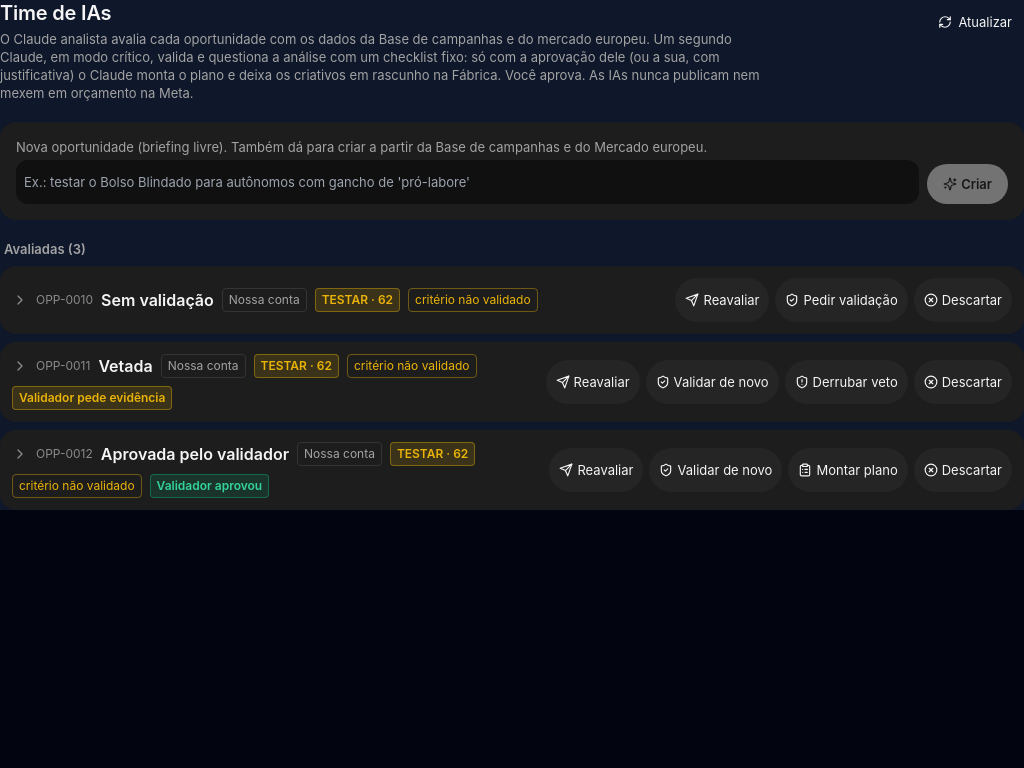
NORQVA-0021 — validador no Time de IAs › shows the checklist, questions and requested evidence
The image size is (1024, 768).
expect the number of elements with test id "ai-opportunity" is 3: met, box [0,266,1023,334]; [0,342,1023,422]; [0,430,1023,510]
expect the element with test id "ai-opportunity" shows "Validador pede evidência": met, box [12,354,538,410]
What coordinates should you click on to do the following:
click the text "Vetada"
I would click on:
 (126, 366)
Its box is [98,354,153,378].
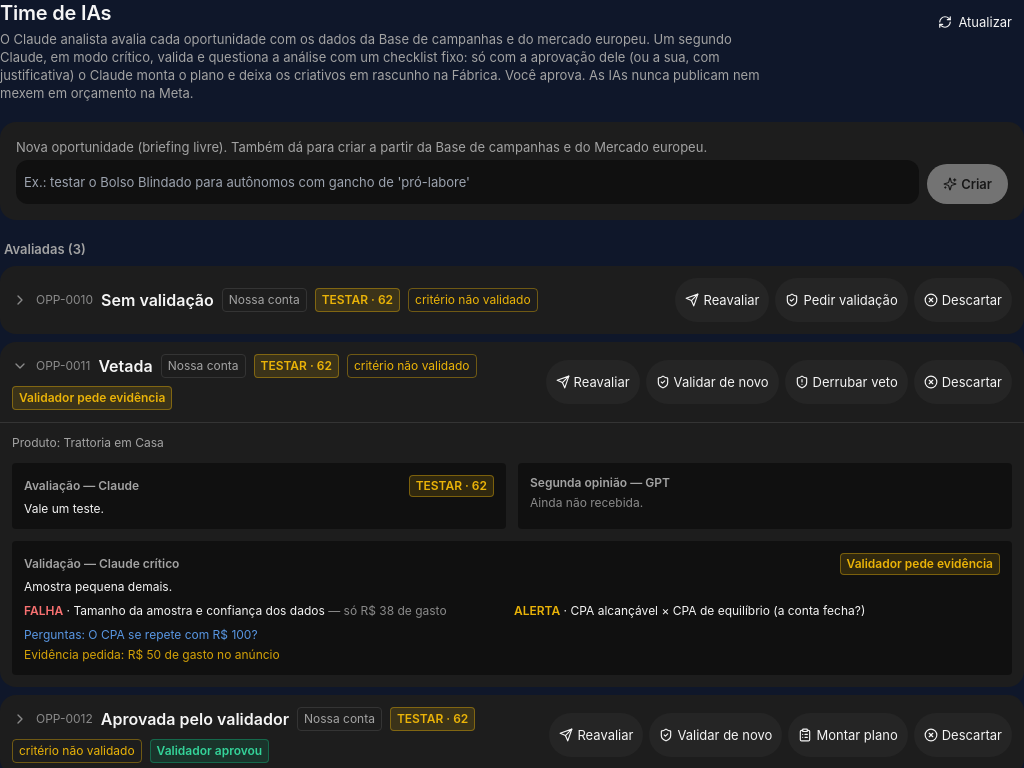
expect the element with test id "ai-opportunity-validation" shows "FALHA · Tamanho da amostra": met, box [12,541,1012,675]
expect the element with test id "ai-opportunity-validation" shows "só R$ 38 de gasto": met, box [344,603,447,618]
expect the element with test id "ai-opportunity-validation" shows "O CPA se repete com R$ 100?": met, box [88,627,258,642]
